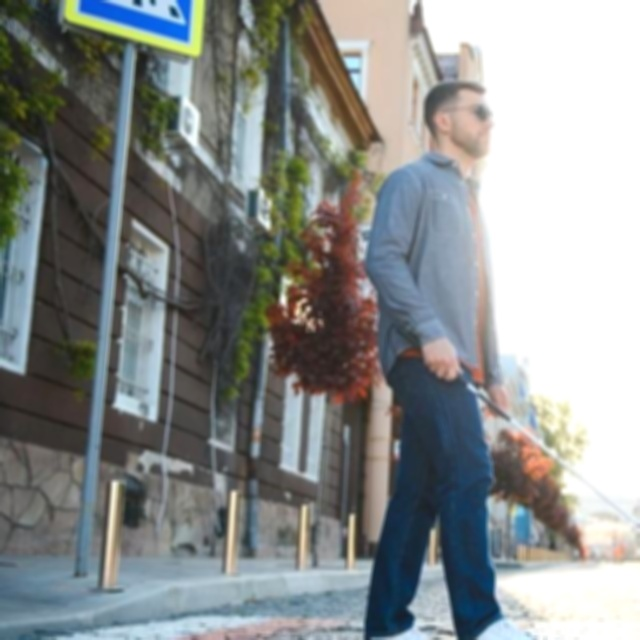Sin_Casco_Mascarrilla: (425, 81, 499, 162)
Sin_Chaleco: (375, 163, 505, 380)
